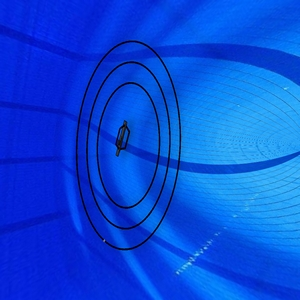circle: (73, 38, 185, 257)
submarine: (110, 118, 136, 160)
